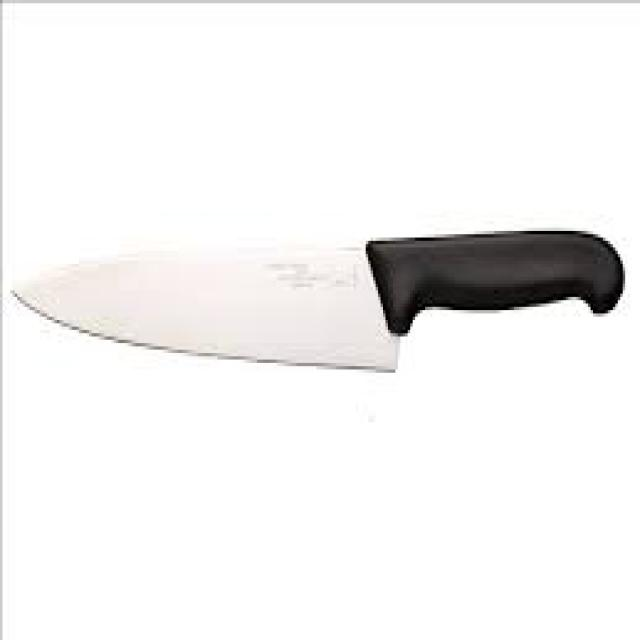Knife: (10, 224, 625, 373)
